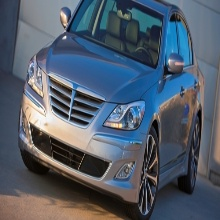no damage: (17, 2, 203, 220)
